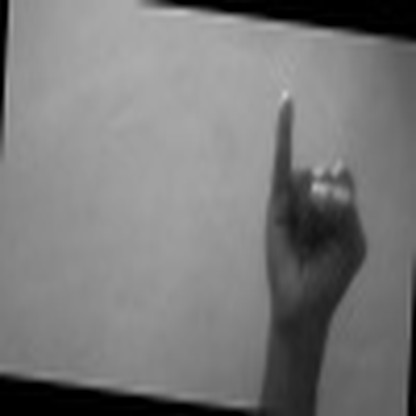i: (245, 90, 378, 325)
